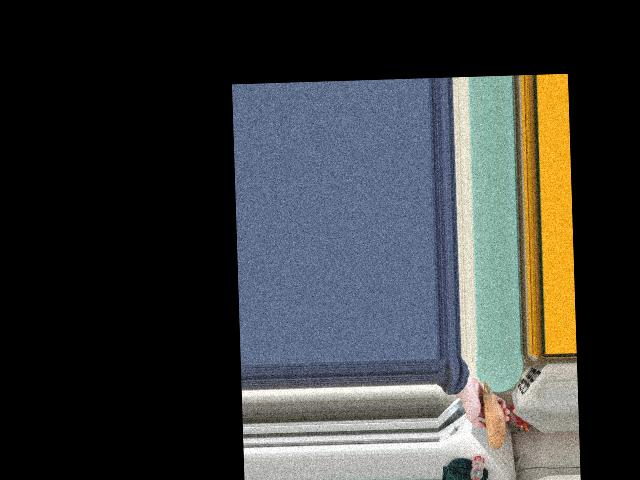sweet_potato: (486, 373, 508, 446)
